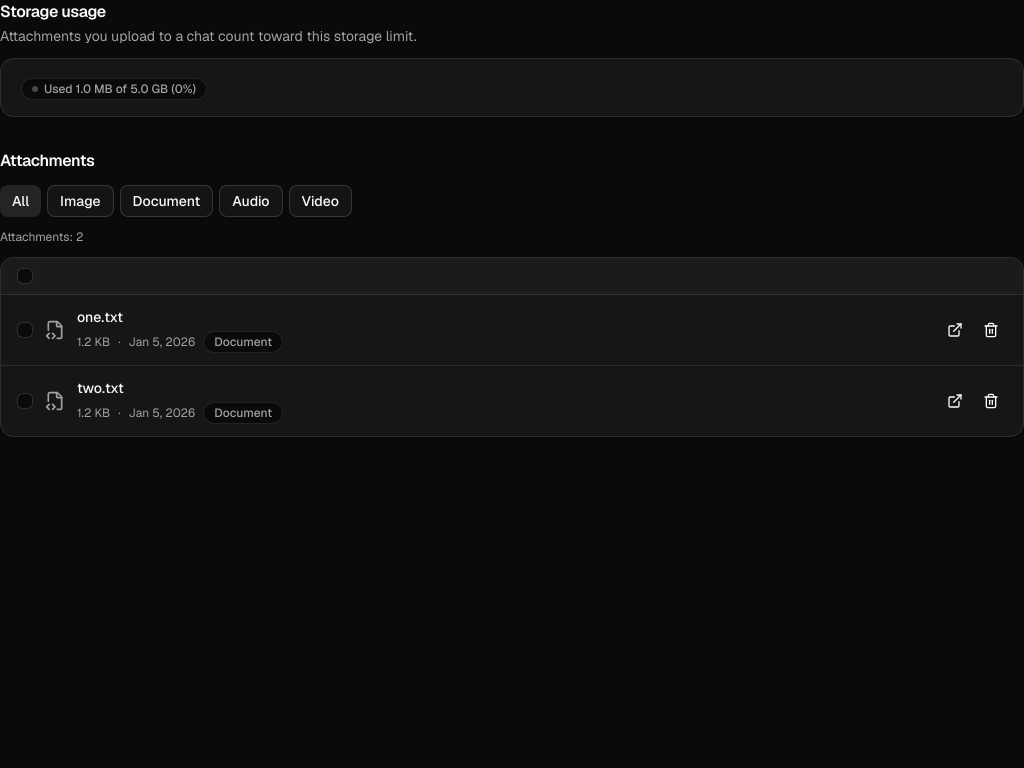
it: FilesScreen › batch-deletes the selection and summarizes the skipped in-use file
expect the text "one.txt" is shown: met, box [77,308,123,326]
Step 1. Click the checkbox named "Select all" → coordinates (25, 276), box [17,268,33,284]
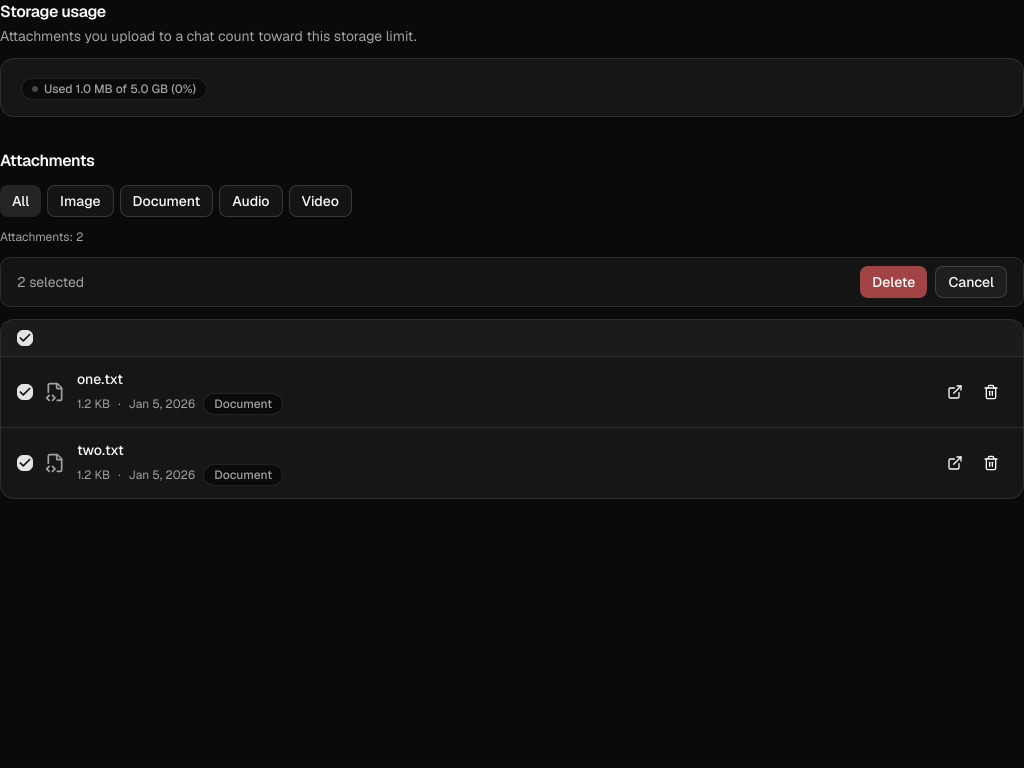
expect the text "2 selected" is shown: met, box [17,272,84,292]
Step 2. Click the button "Delete" → coordinates (894, 282), box [860,266,928,298]
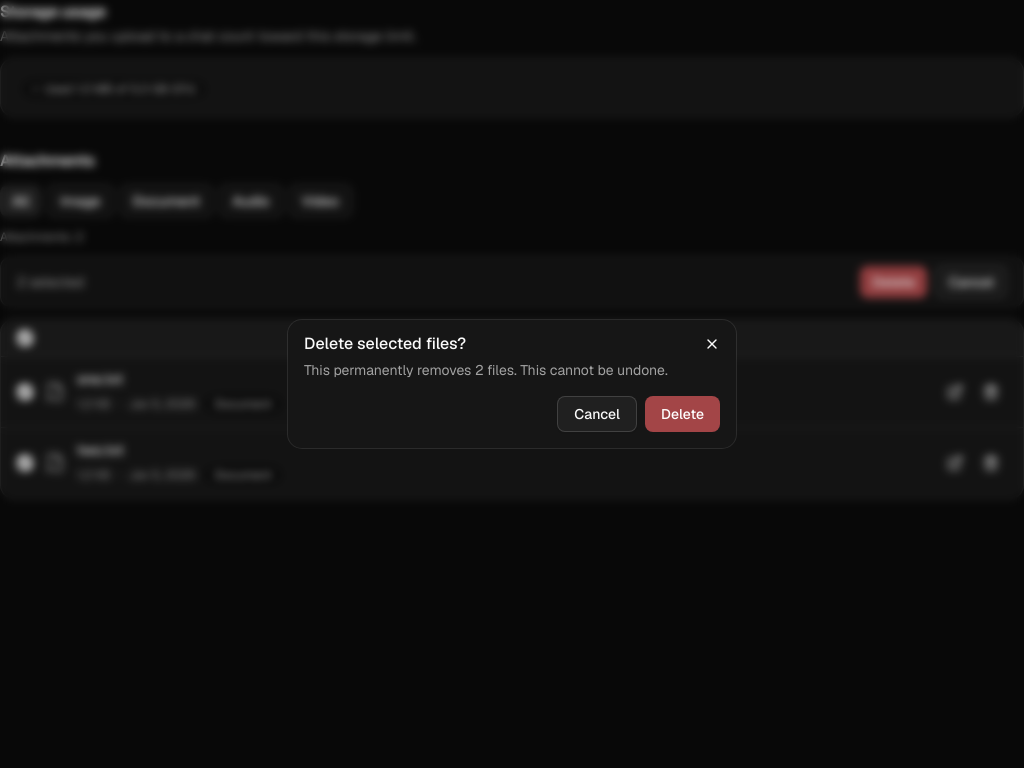
Step 3. Click the button "Delete" → coordinates (682, 414), box [645,396,720,432]
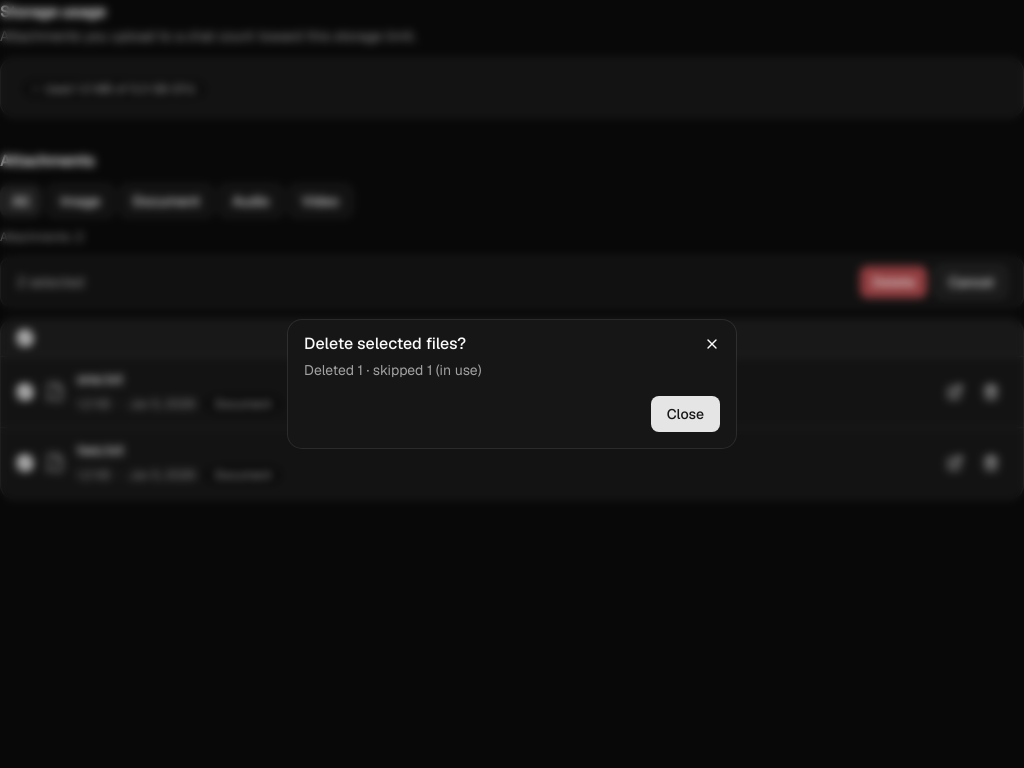
expect the text "Deleted 1 · skipped 1 (in use)" is shown: met, box [304,361,482,379]
Step 4. Click the button named "Close" → coordinates (712, 344), box [696,328,728,360]
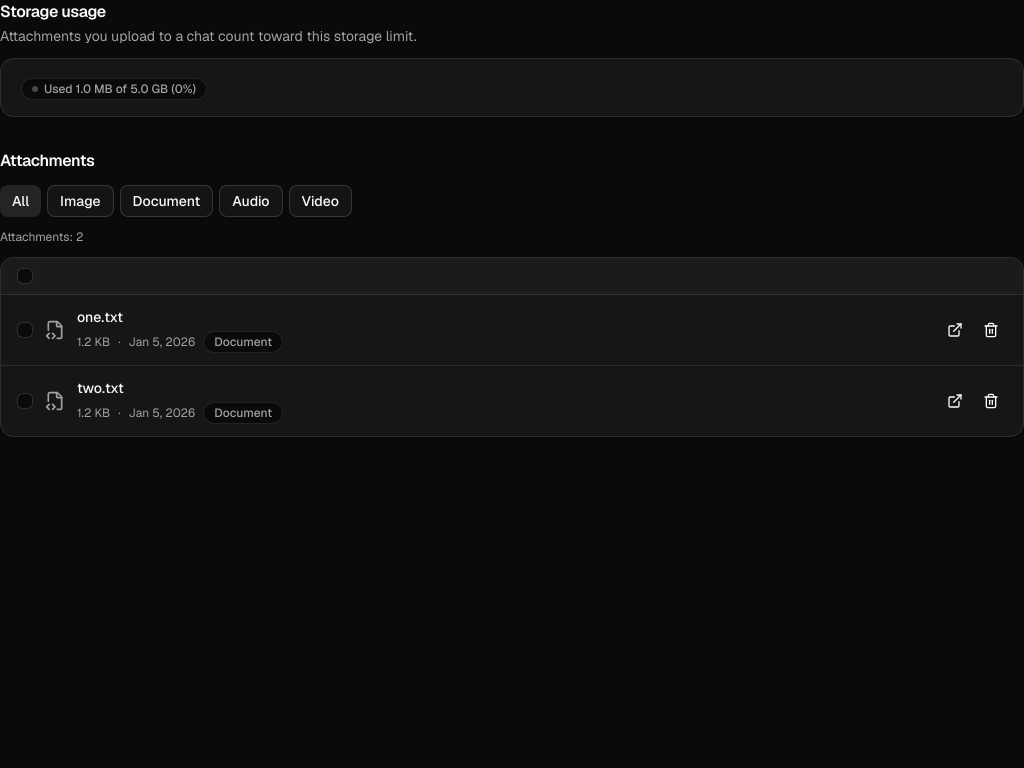
expect the text "2 selected" is gone: met
